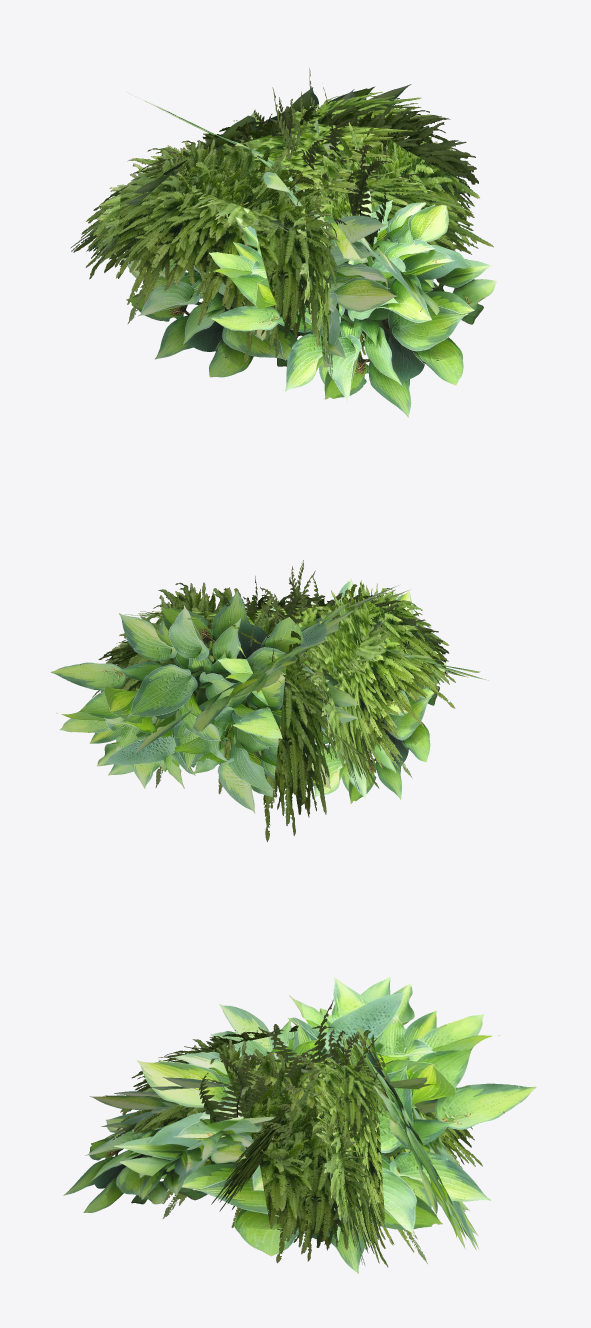
Rendered from nat_bush.glb.
The picture shows the model from 3 angles, top to bottom: view 1: azimuth 30°, elevation 25°; view 2: azimuth 150°, elevation 25°; view 3: azimuth 270°, elevation 25°; orthographic projection. The views are drawn at different scales.
Parts seen in each view (by area): view 1: fernlong, hosta, fern; view 2: hosta, fernlong, fern; view 3: hosta, fernlong, fern.
Boxes of the visible parts, x1,y1,x2,y2 form: fernlong: (70,91,493,380); hosta: (122,84,496,417); fern: (254,68,422,266); hosta: (50,578,488,813); fernlong: (92,580,455,841); fern: (204,560,336,672); hosta: (63,977,536,1273); fernlong: (106,1024,482,1267); fern: (197,999,385,1161).
Size of the model in its own units: 0.8476 by 0.6 by 1.11.
Materials: 3 (3 with a texture image).
